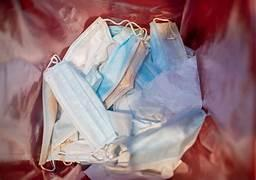Mask: (107, 109, 204, 177), (44, 61, 116, 149), (113, 56, 201, 127), (129, 56, 201, 121), (48, 111, 131, 164), (135, 18, 192, 88), (104, 28, 147, 108), (97, 27, 139, 101), (63, 17, 117, 73), (150, 18, 186, 72), (39, 80, 57, 164), (135, 52, 158, 88), (85, 66, 102, 91)
